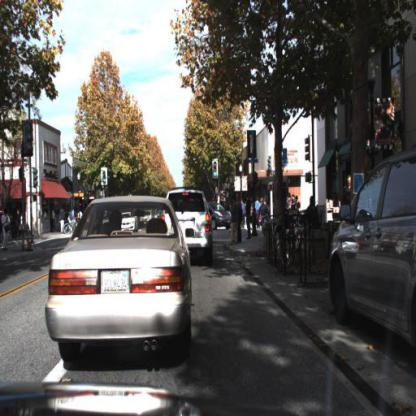car: (45, 195, 196, 369), (329, 143, 416, 363), (167, 187, 214, 263), (206, 199, 233, 235), (208, 203, 233, 229)
pedestrian: (229, 195, 241, 247), (301, 195, 320, 226), (343, 172, 355, 220), (243, 193, 255, 240), (260, 194, 271, 240), (2, 208, 12, 252), (237, 193, 244, 245), (58, 207, 68, 236), (239, 197, 248, 226), (254, 193, 261, 227), (290, 193, 299, 218), (294, 193, 302, 209)
trafficLight-Green: (212, 157, 220, 181), (100, 167, 108, 188)
